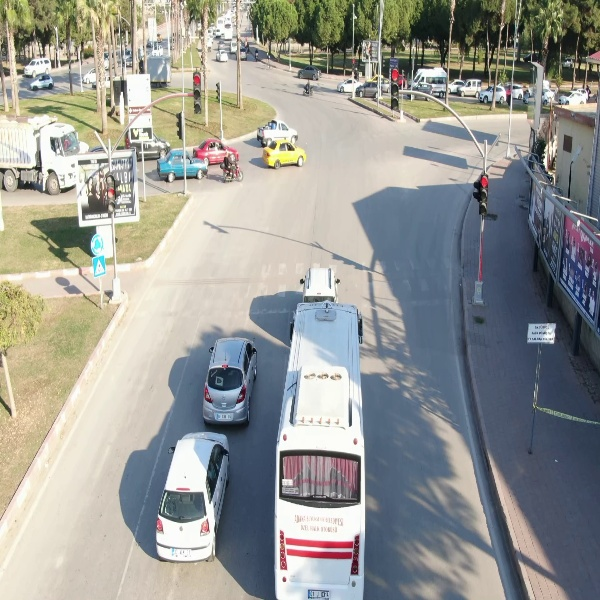car: (152, 429, 233, 564), (201, 337, 260, 427), (157, 147, 208, 185), (261, 137, 307, 171), (455, 76, 484, 99), (479, 83, 510, 104), (293, 63, 322, 82), (28, 73, 56, 92), (560, 87, 588, 106)
